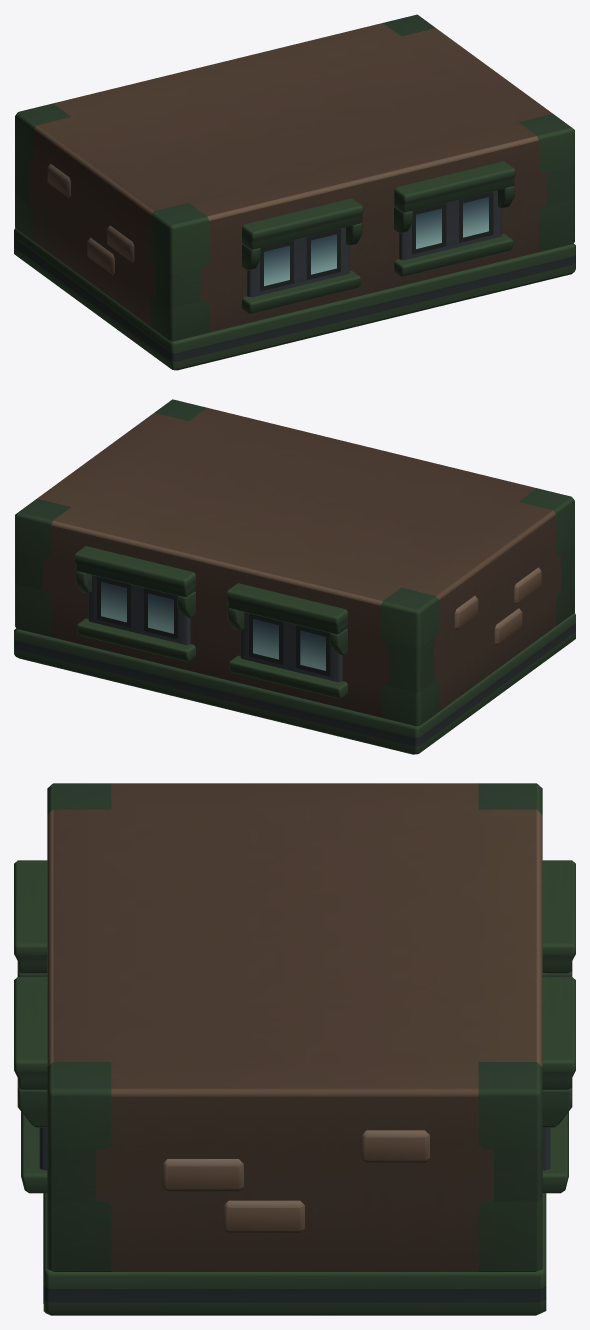
Rendered from appartment_type1_x6_element_brown.fbx.
The picture shows the model from 3 angles, top to bottom: view 1: azimuth 30°, elevation 25°; view 2: azimuth 150°, elevation 25°; view 3: azimuth 270°, elevation 25°; orthographic projection. The views are drawn at different scales.
Visible parts, largest first — view 1: appartment_type1_x6_element_brown; view 2: appartment_type1_x6_element_brown; view 3: appartment_type1_x6_element_brown.
Boxes of the visible parts, box(x1,y1,x2,y2) form: appartment_type1_x6_element_brown: box(14, 14, 575, 370); appartment_type1_x6_element_brown: box(14, 399, 575, 754); appartment_type1_x6_element_brown: box(14, 783, 575, 1315).
Bounding box in the file's own units: 1219 × 409 × 918.
